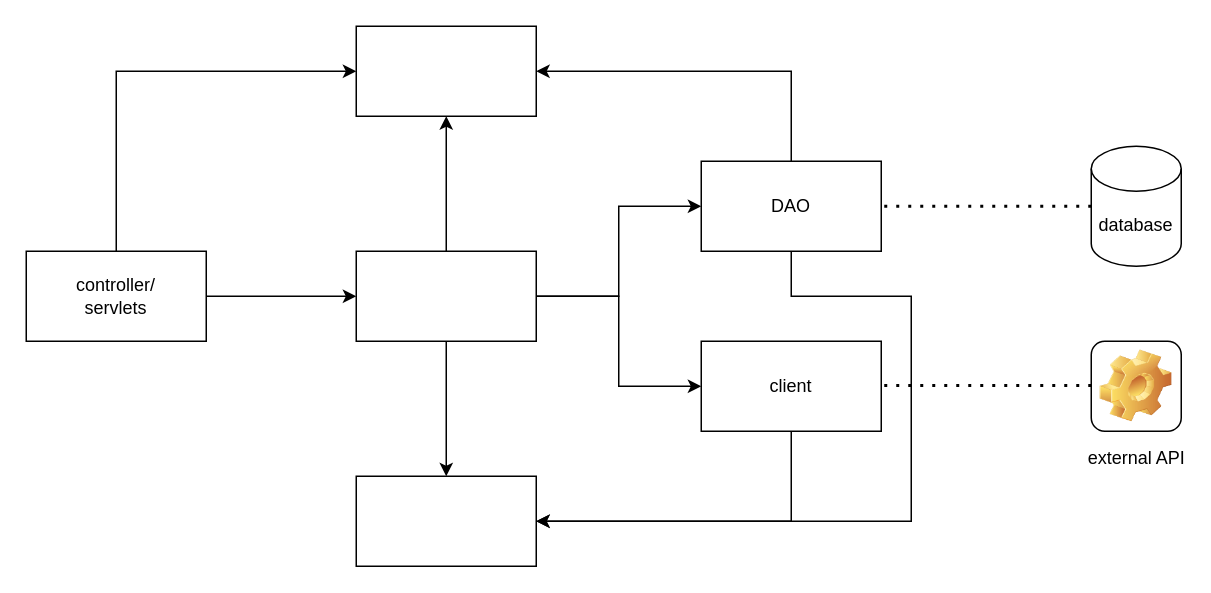
This 1211x593 diagram has some shape labels left out. The shapes that lost their labels are listed below. From the top down, each one's centre as x and y in pixels, then its label:
[445,70]: DTO
[445,295]: service
[445,520]: entity
